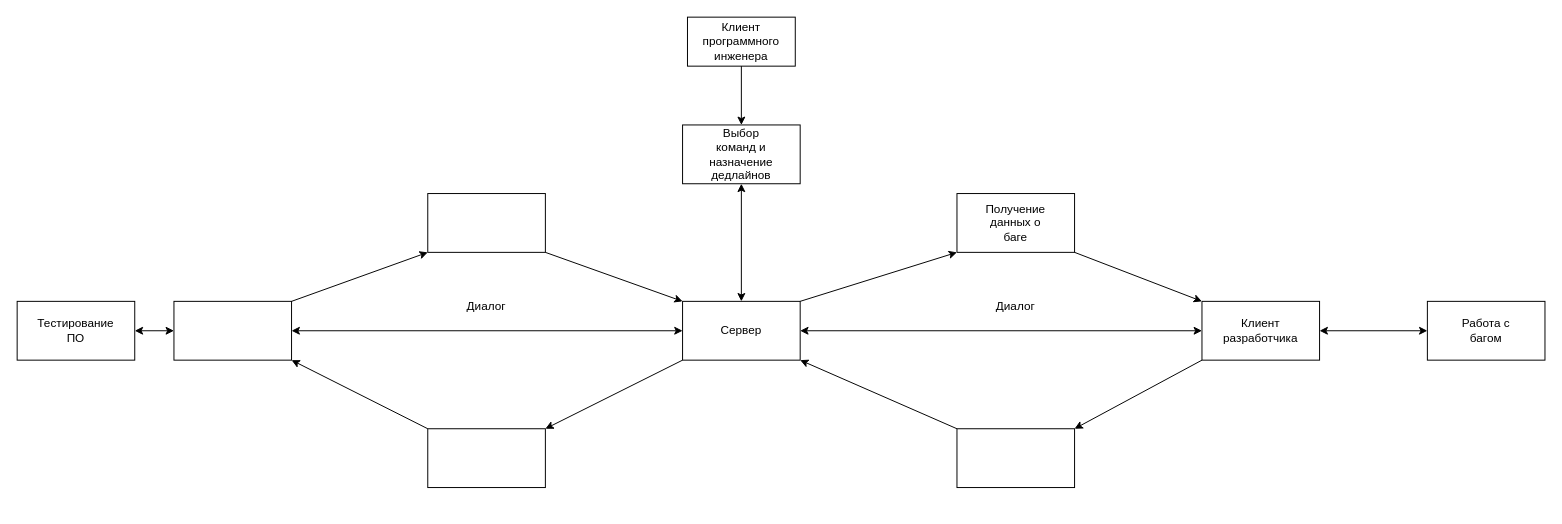
The diagram is 1562 pixels wide and 524 high, and some of its shapes have lost their labels. Here are the shapes that lost their labels. From the top down, the box of each, then its label:
(427, 193, 545, 252): Отправка тикета на сервер
(173, 300, 292, 360): Клиент тестировщика
(427, 428, 545, 488): Отправка тестировщику новой версии/информации о статусе бага
(956, 428, 1075, 488): обновленная версия/ статус бага
